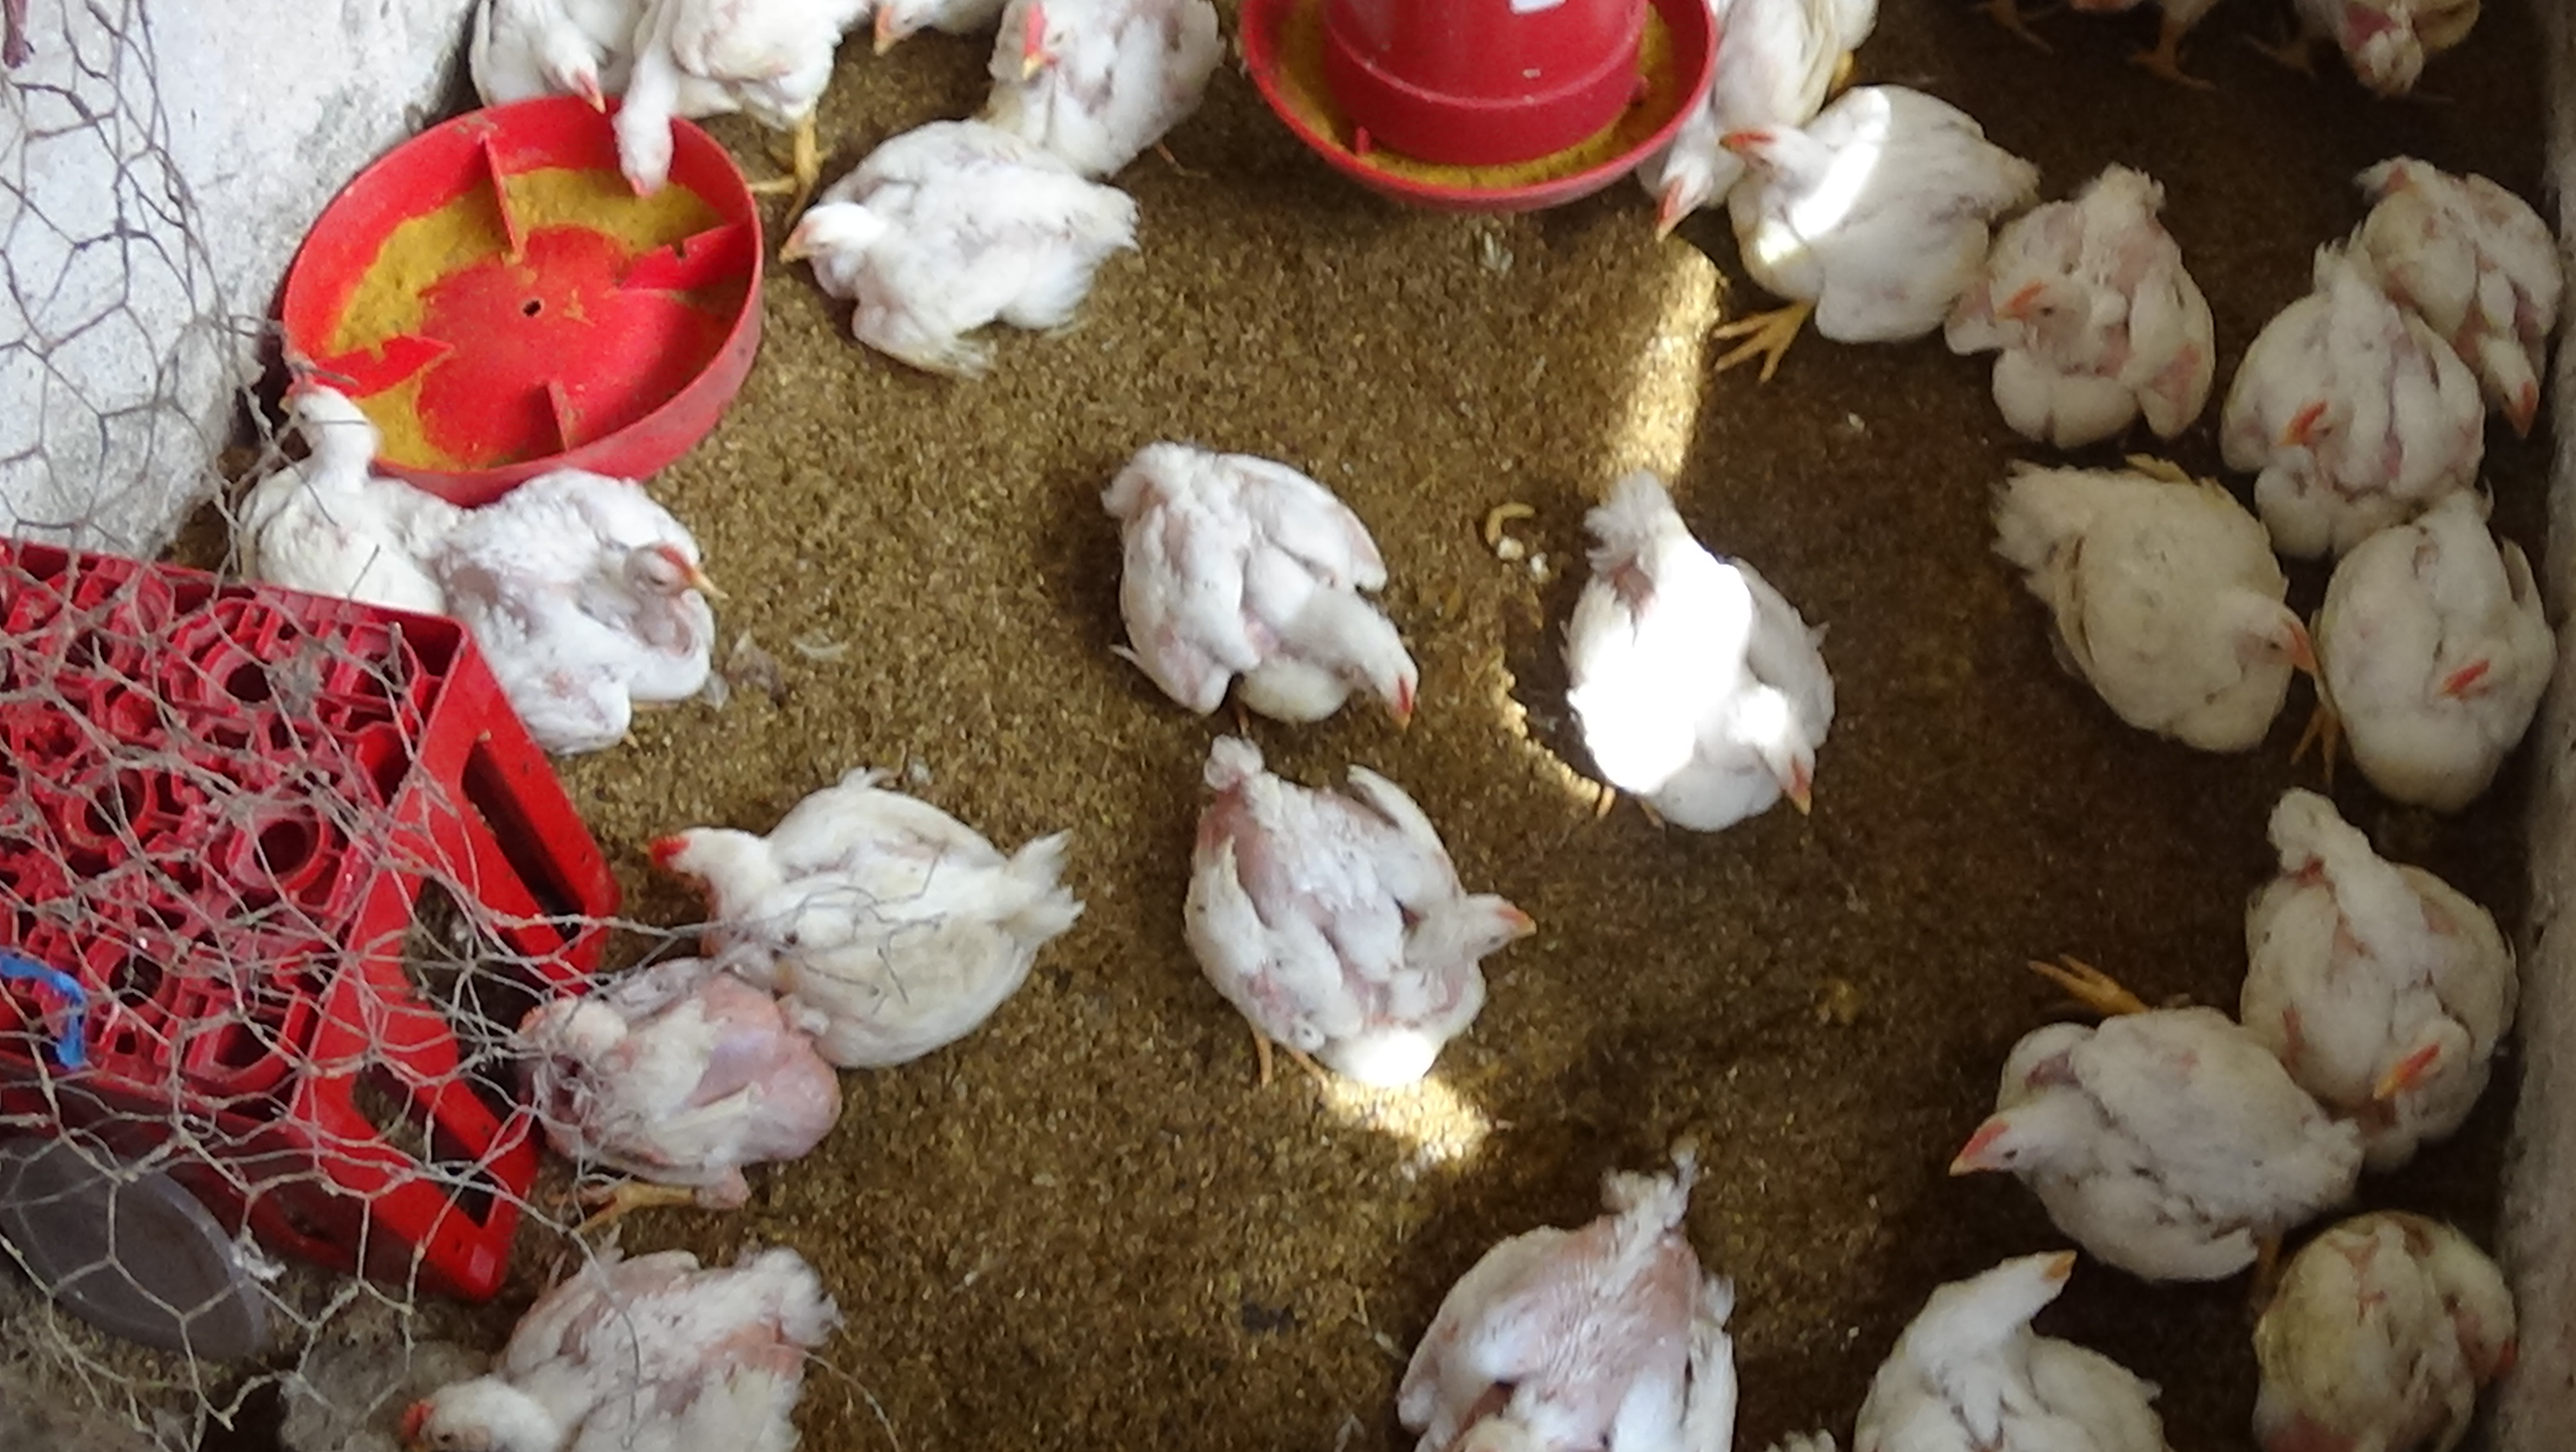Pollos: (1177, 730, 1555, 1140), (1939, 942, 2339, 1286), (639, 774, 1095, 1066), (2224, 760, 2532, 1181), (1555, 446, 1851, 875), (1085, 429, 1461, 754), (1373, 1169, 1799, 1452), (1969, 425, 2330, 760), (1714, 67, 2033, 434), (778, 106, 1152, 386), (405, 1231, 869, 1452), (2194, 221, 2495, 556), (2307, 453, 2571, 827), (508, 969, 867, 1231), (1941, 152, 2219, 459), (462, 453, 736, 751), (1812, 1236, 2187, 1452), (1596, 0, 1893, 251), (2249, 1201, 2534, 1450), (214, 361, 453, 657), (2355, 152, 2576, 453), (602, 0, 869, 218), (982, 0, 1215, 182), (441, 0, 694, 133), (823, 0, 1019, 69)
